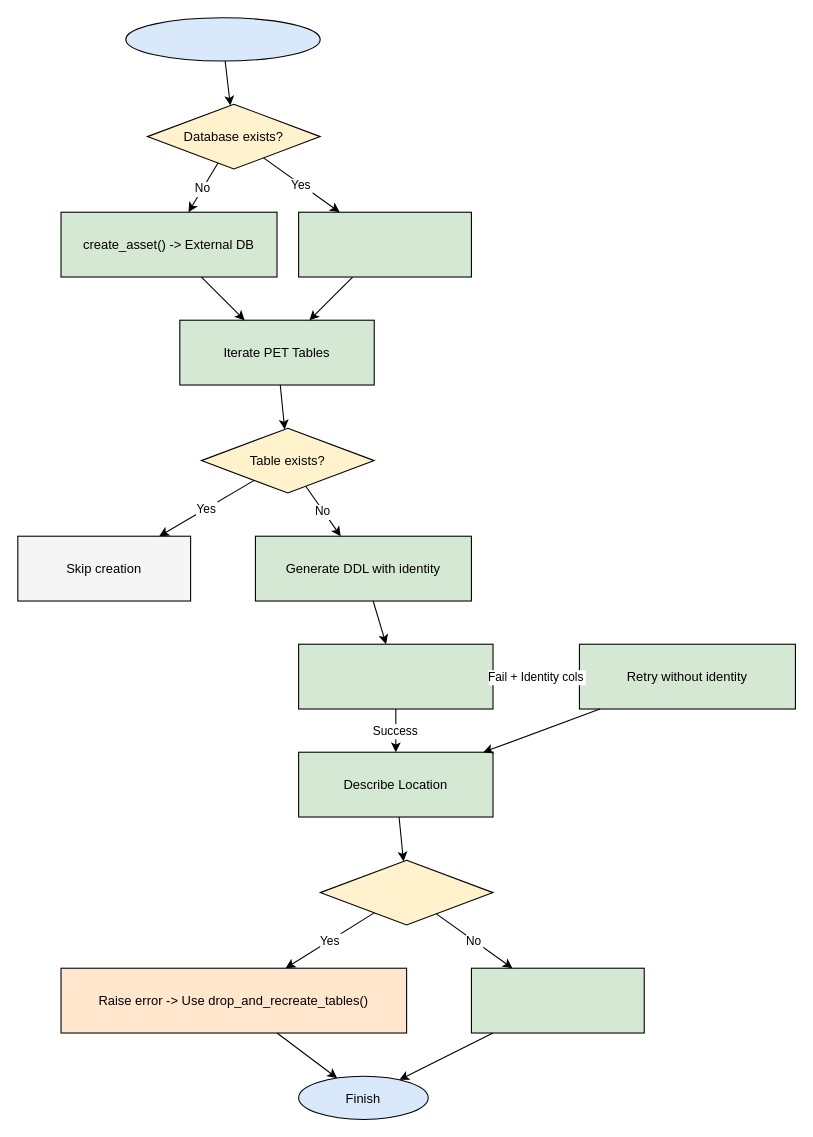
The diagram is 813 pixels wide and 1137 high, and some of its shapes have lost their labels. The shapes that lost their labels are listed below. From the top down, each one's centre as x and y in pixels, then its label:
At (222,39): "Start: Run pet_ctrl_objects_ddl".
At (384,244): "Skip DB create".
At (395,676): "Try CREATE TABLE".
At (406,892): "Location = DBFS?".
At (557,1000): "Table OK".
